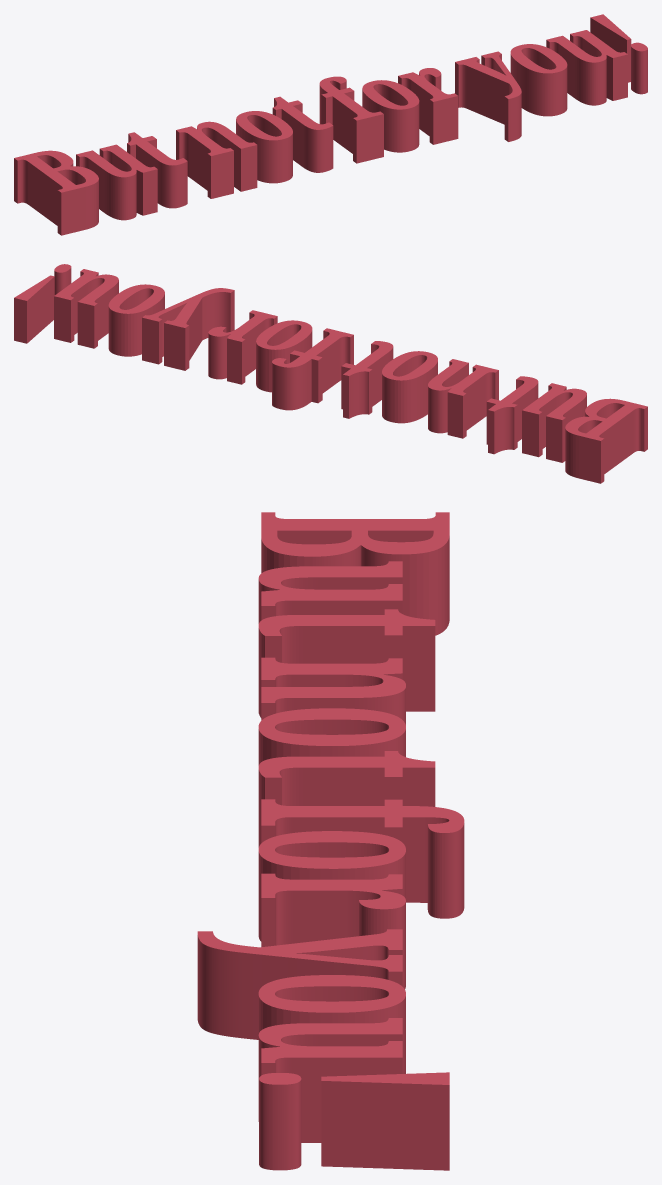
File: ButNotForYou.glb
3 renders of one model, top to bottom at view 1: azimuth 30°, elevation 25°; view 2: azimuth 150°, elevation 25°; view 3: azimuth 270°, elevation 25°, orthographic. The views are drawn at different scales.
Visible parts, largest first — view 1: Mesh_Mesh_head_geo.001_lambert2SG.001; view 2: Mesh_Mesh_head_geo.001_lambert2SG.001; view 3: Mesh_Mesh_head_geo.001_lambert2SG.001.
Boxes of the visible parts, x1=… form: Mesh_Mesh_head_geo.001_lambert2SG.001: x1=14, y1=14, x2=647, y2=235; Mesh_Mesh_head_geo.001_lambert2SG.001: x1=14, y1=264, x2=647, y2=483; Mesh_Mesh_head_geo.001_lambert2SG.001: x1=197, y1=512, x2=464, y2=1170.
Size of the model in its own units: 77.96 by 5.43 by 15.34.
